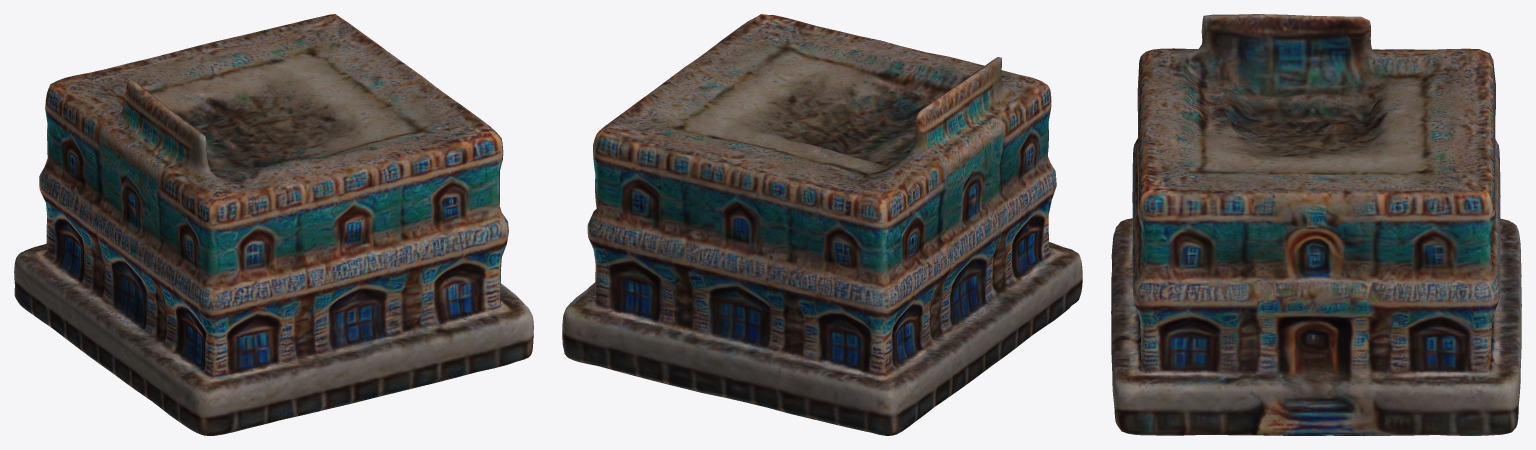
Rendered from f5591ed6afdd_mayan_style_office_.fbx.
3 renders of one model, left to right at view 1: azimuth 30°, elevation 25°; view 2: azimuth 150°, elevation 25°; view 3: azimuth 270°, elevation 25°, orthographic. The views are drawn at different scales.
Visible parts, largest first — view 1: mesh; view 2: mesh; view 3: mesh.
Boxes of the visible parts, bbox=[...] form: mesh: bbox=[14, 14, 533, 435]; mesh: bbox=[562, 14, 1082, 435]; mesh: bbox=[1111, 14, 1521, 435].
Size of the model in its own units: 99.92 by 74.03 by 99.89.
